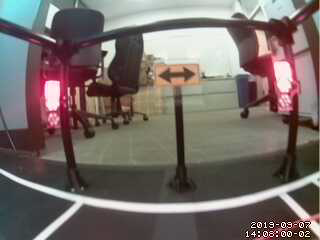Left_Right_sign: (150, 62, 197, 87)
Traffic_light_red: (273, 61, 297, 118), (45, 78, 62, 131)
